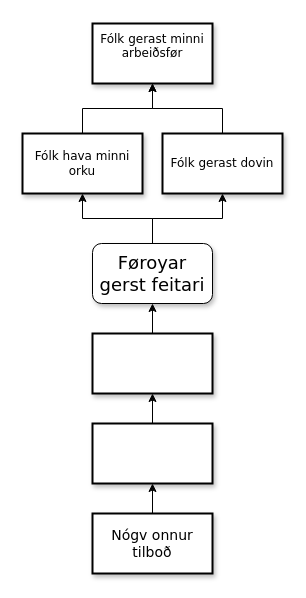
Image size: 306x598. Some labels were removed from this diagram. Each missing label, with the centre of its shape:
Ikki spendandi at íðka: (153,454)
Íðka ov lítið: (153,364)
